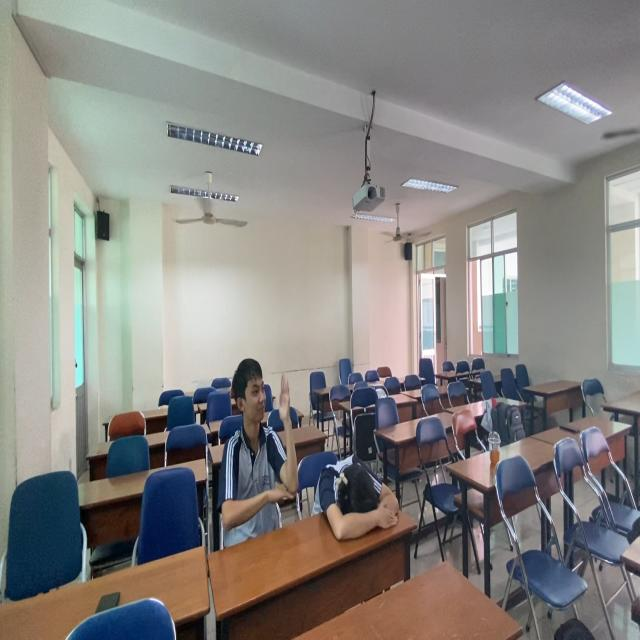raise_hand: (209, 362, 302, 551)
sleep: (316, 444, 407, 554)
